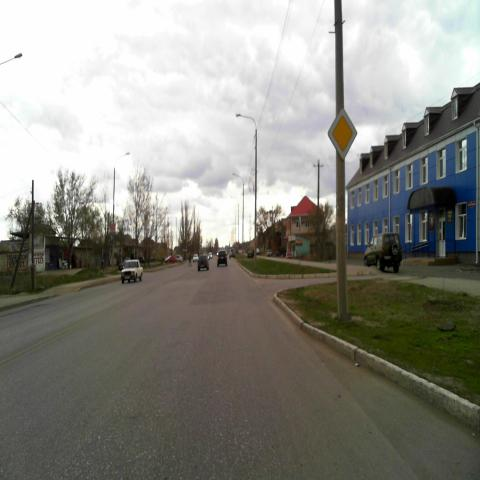2_1: (328, 105, 358, 160)
